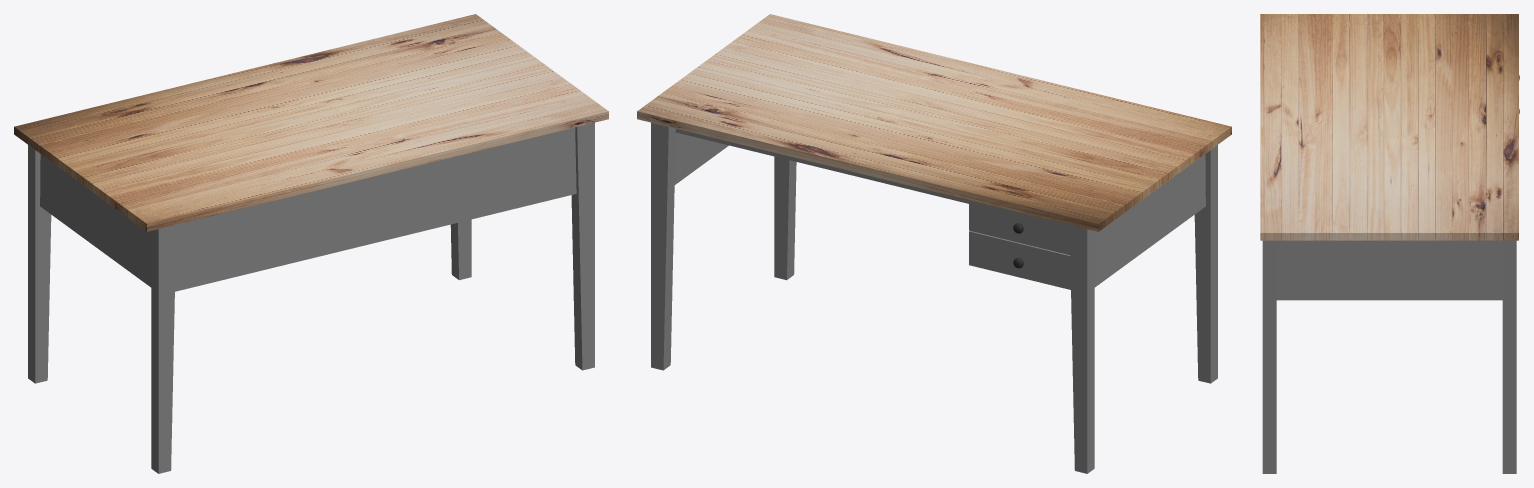
Rendered from regular_desk_1_75.95Dx152.15Wx79.76H-transformed.glb.
3 views of the same model, side by side, from view 1: azimuth 30°, elevation 25°; view 2: azimuth 150°, elevation 25°; view 3: azimuth 270°, elevation 25° (orthographic). The views are drawn at different scales.
Parts seen in each view (by area): view 1: Cube; view 2: Cube; view 3: Cube.
Part boxes in pixels (box(x1,y1,x2,y2)): Cube: box(14, 14, 608, 473); Cube: box(637, 14, 1231, 473); Cube: box(1260, 14, 1519, 473).
Bounding box in the file's own units: 59.86 × 31.45 × 29.94.
Materials: 3 (1 with a texture image).
